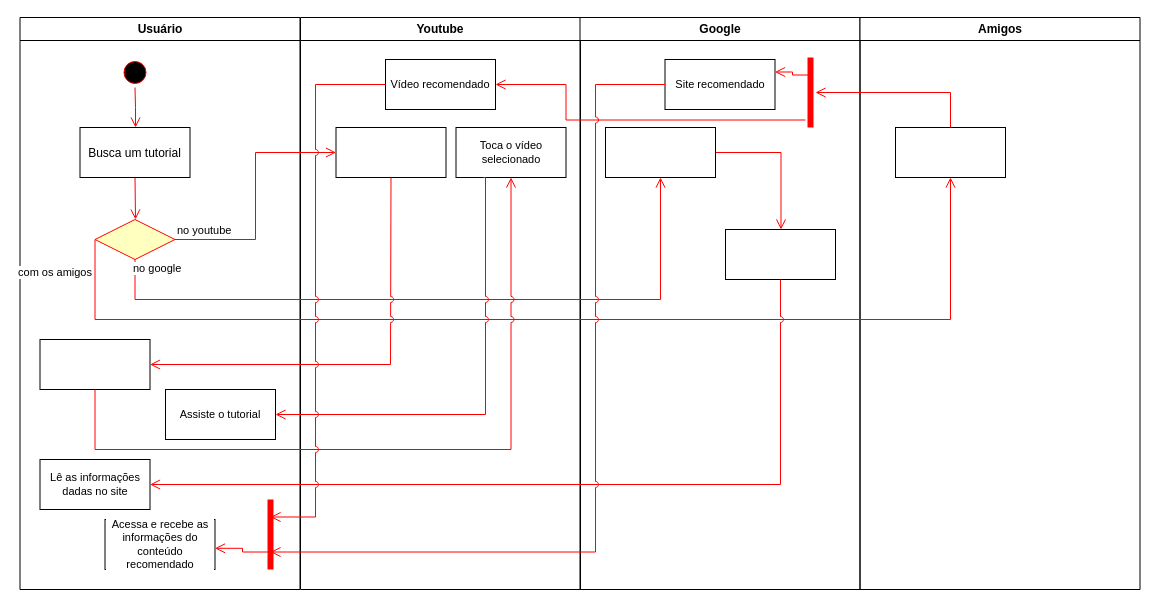
Image size: 1158x607. Some labels were removed from this diagram. Here are the shapes that lost their labels. From the top down, the centre of each, then its label:
At point (390, 152): "Apresenta uma lista de vídeos".
At point (660, 152): "Apresenta resultados da busca".
At point (950, 152): "Recomendam tutoriais".
At point (134, 239): "onde procurar?".
At point (780, 254): "Carrega o site clicado".
At point (94, 364): "Escolhe o vídeo".
